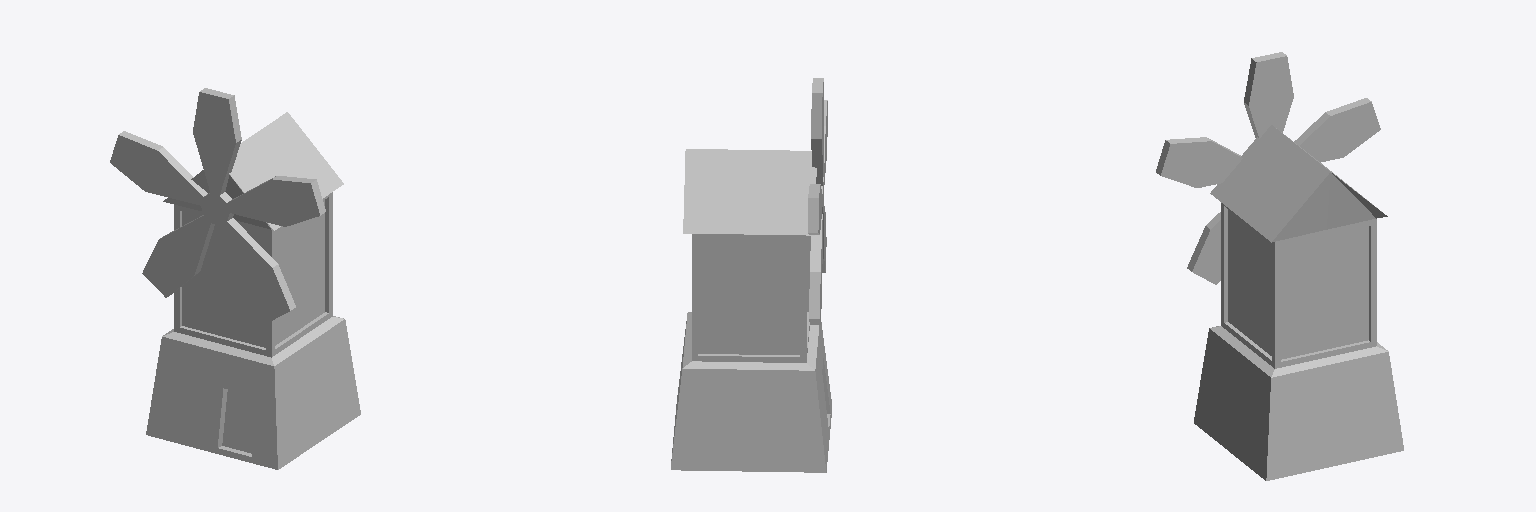
The model's file is wiatrak.obj.
3 views of the same model, side by side, from view 1: azimuth 30°, elevation 25°; view 2: azimuth 150°, elevation 25°; view 3: azimuth 270°, elevation 25° (orthographic).
Parts seen in each view (by area): view 1: Mill_Untitled.001, propeller_Untitled; view 2: Mill_Untitled.001, propeller_Untitled; view 3: Mill_Untitled.001, propeller_Untitled.
Boxes of the visible parts, <box> form: Mill_Untitled.001: <box>146,112,360,469</box>; propeller_Untitled: <box>110,88,325,322</box>; Mill_Untitled.001: <box>671,149,831,472</box>; propeller_Untitled: <box>808,78,827,324</box>; Mill_Untitled.001: <box>1194,125,1403,480</box>; propeller_Untitled: <box>1156,52,1380,284</box>.
Size of the model in its own units: 0.5574 by 0.9601 by 0.6105.